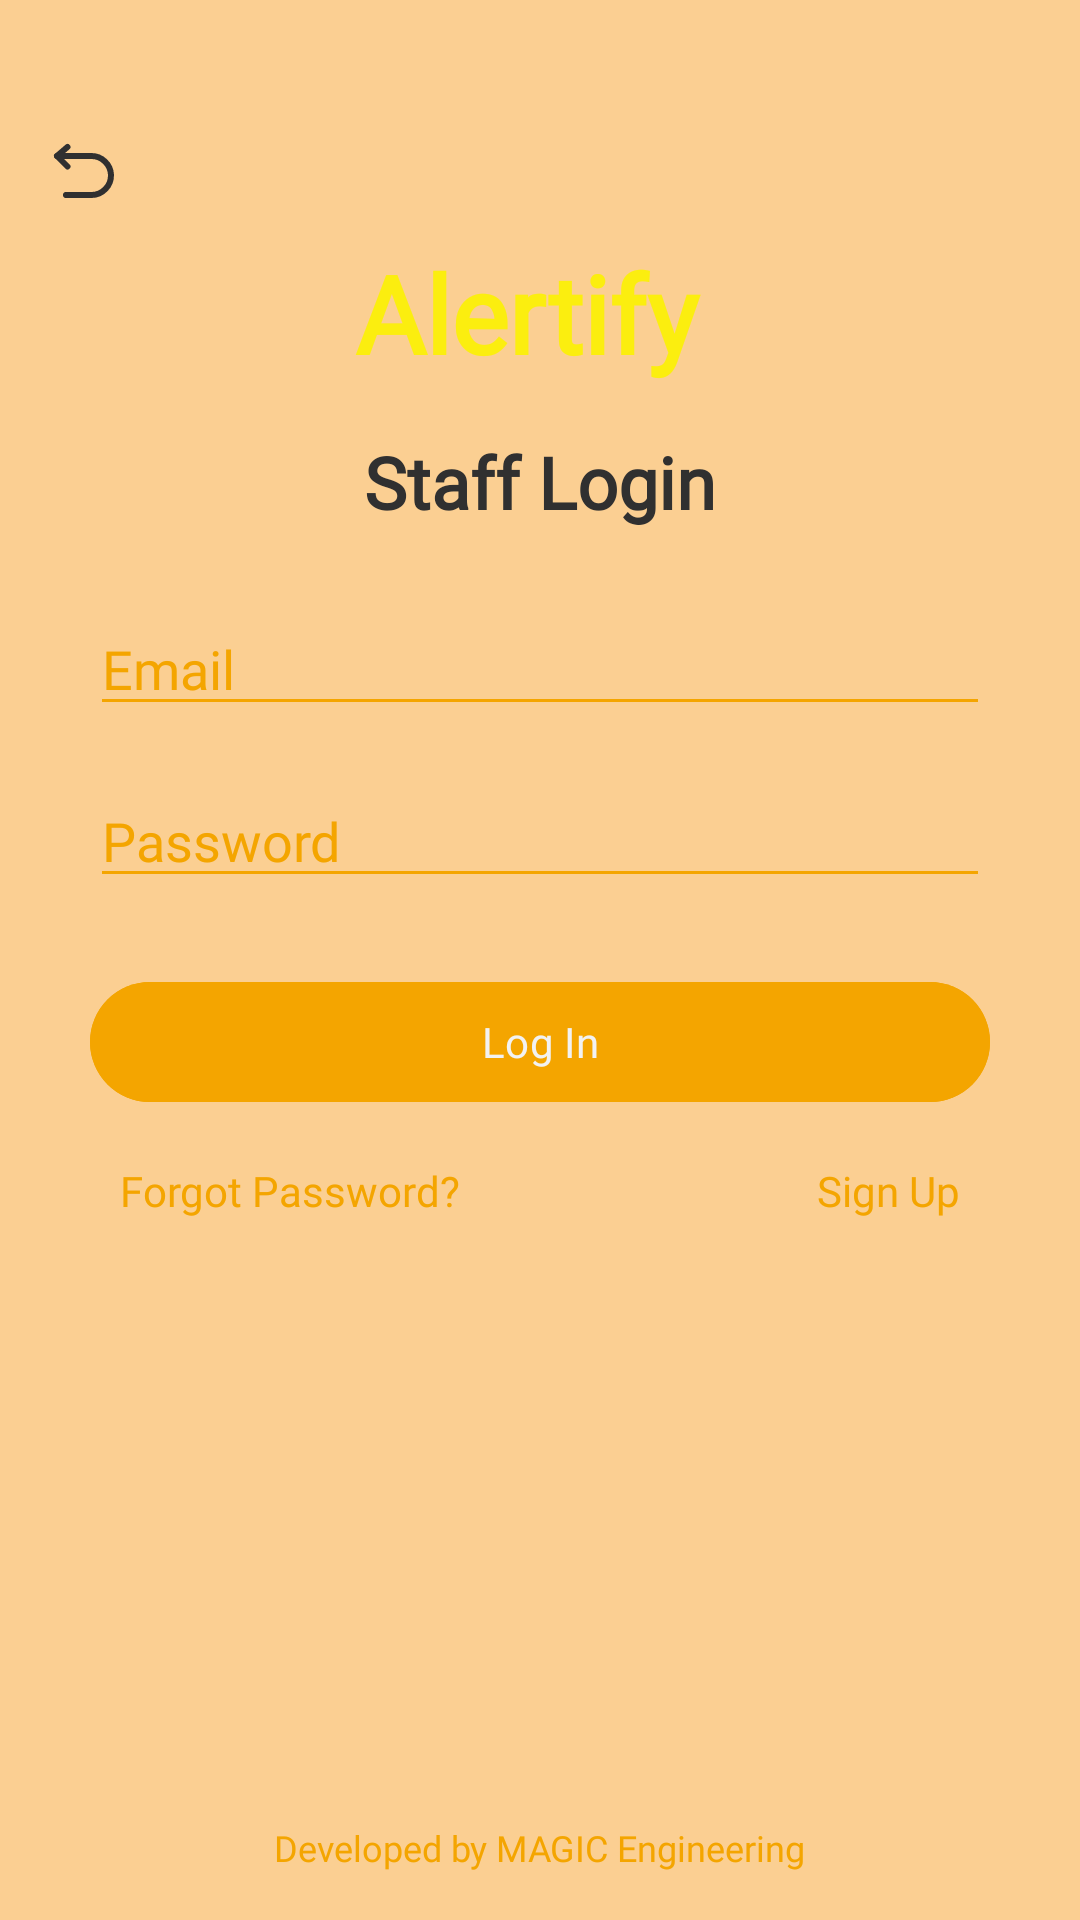

Icons on this 1080×1920 Android screen, each with its box as [x1, y1, x2, y2]:
Back: [53, 143, 114, 198]
